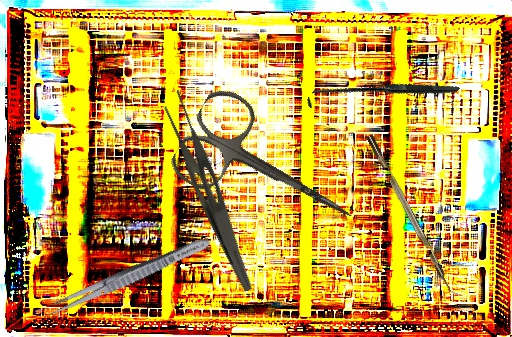Chopper: (366, 130, 464, 301)
Dressing Forceps: (150, 88, 275, 293), (45, 232, 213, 321)
Hook Surgical: (304, 17, 460, 174)
Iris Scissors: (165, 82, 376, 262)
